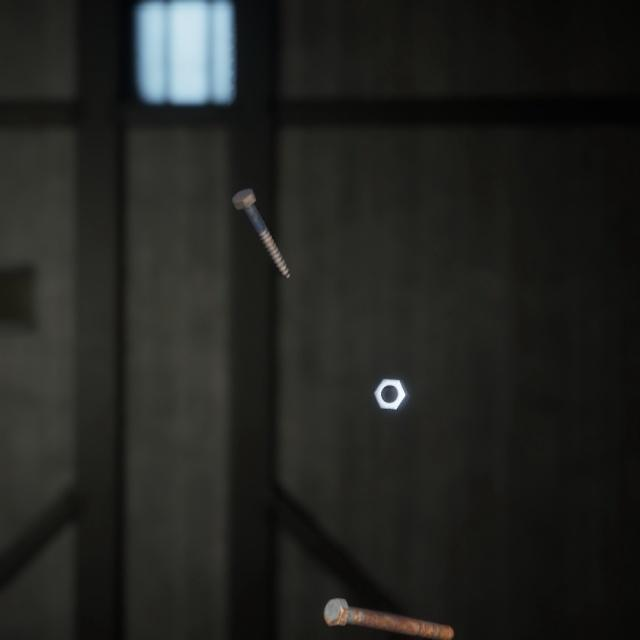bolt: (319, 570, 458, 623), (227, 167, 294, 267)
nut: (369, 355, 414, 396)
